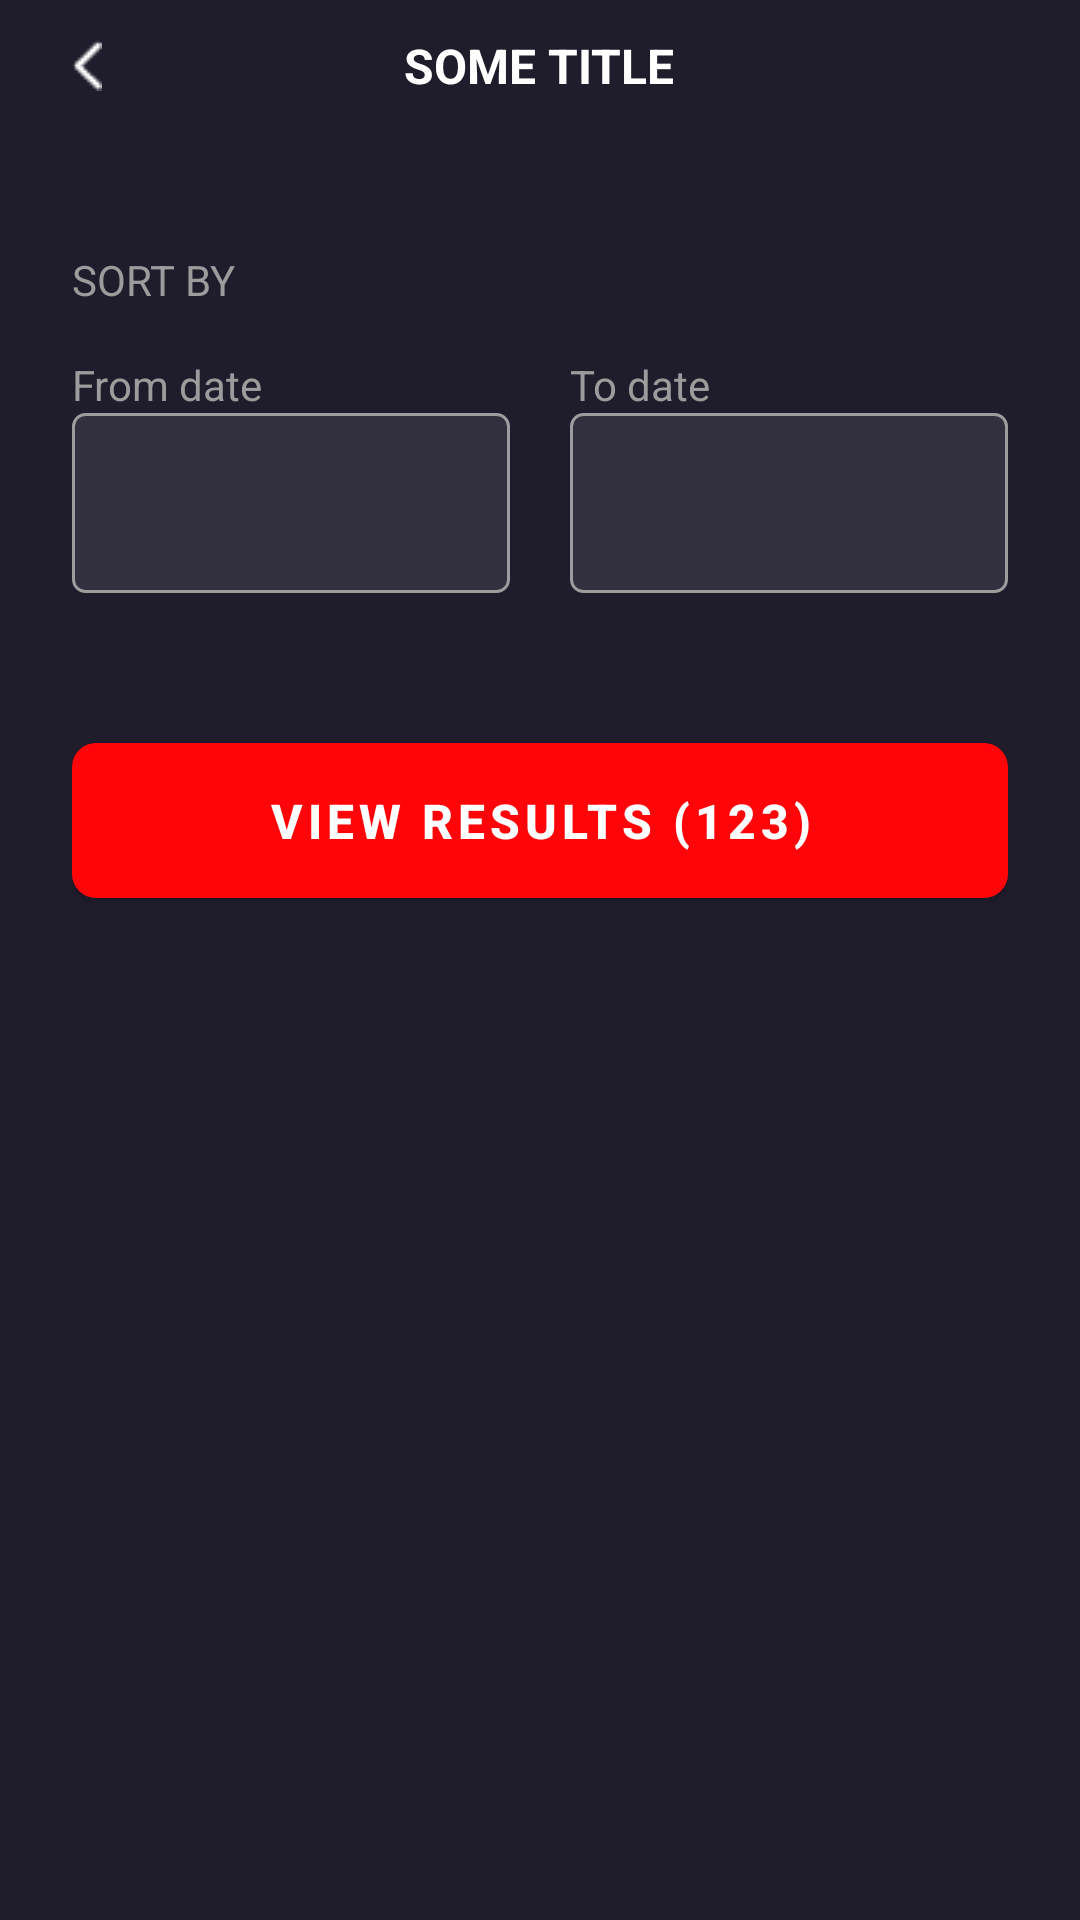

Point at icon controls on the screen. Image size 1080*1920, points as (x,y).
back: (88,66)
